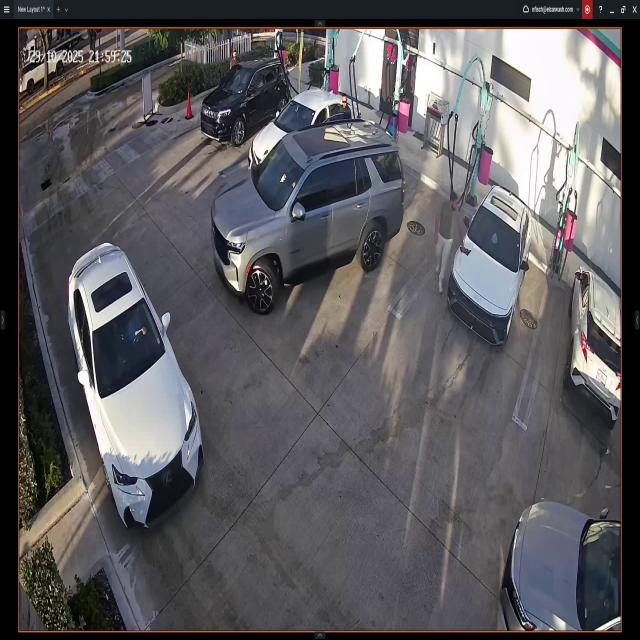Car: (58, 240, 202, 525), (209, 132, 404, 317), (500, 488, 620, 630), (450, 183, 530, 341), (249, 88, 362, 183), (564, 263, 620, 424), (200, 57, 286, 147)
